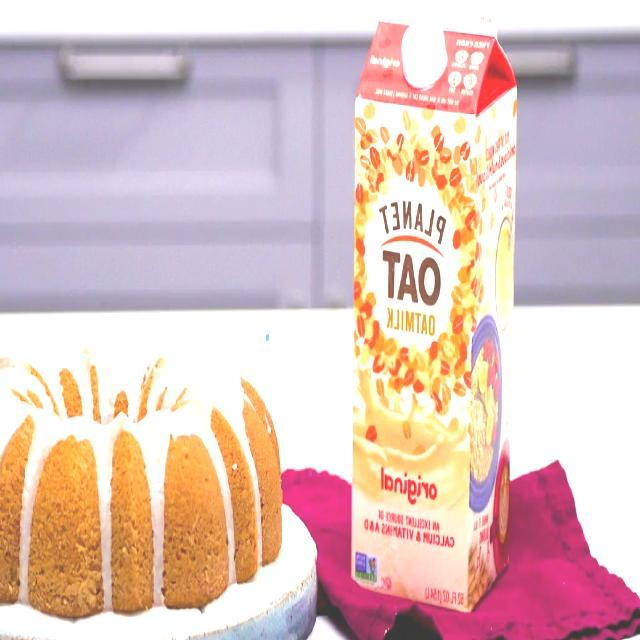Planet Oat Original: (346, 0, 520, 614)
